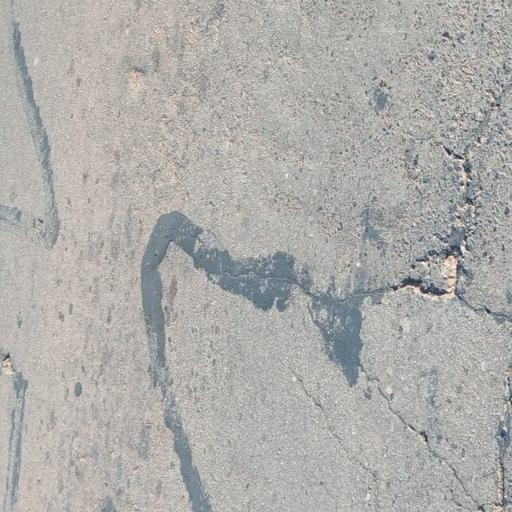GRIETA: (363, 366, 484, 511), (451, 79, 511, 324), (221, 269, 454, 306), (324, 422, 376, 479), (497, 367, 511, 509), (292, 371, 327, 418)
